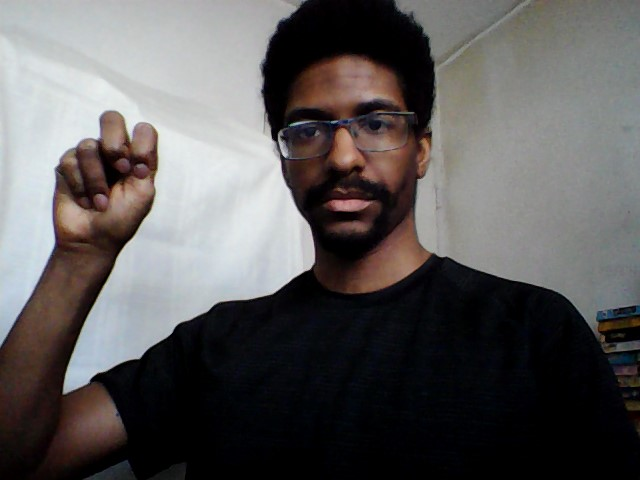n: (49, 108, 164, 249)
